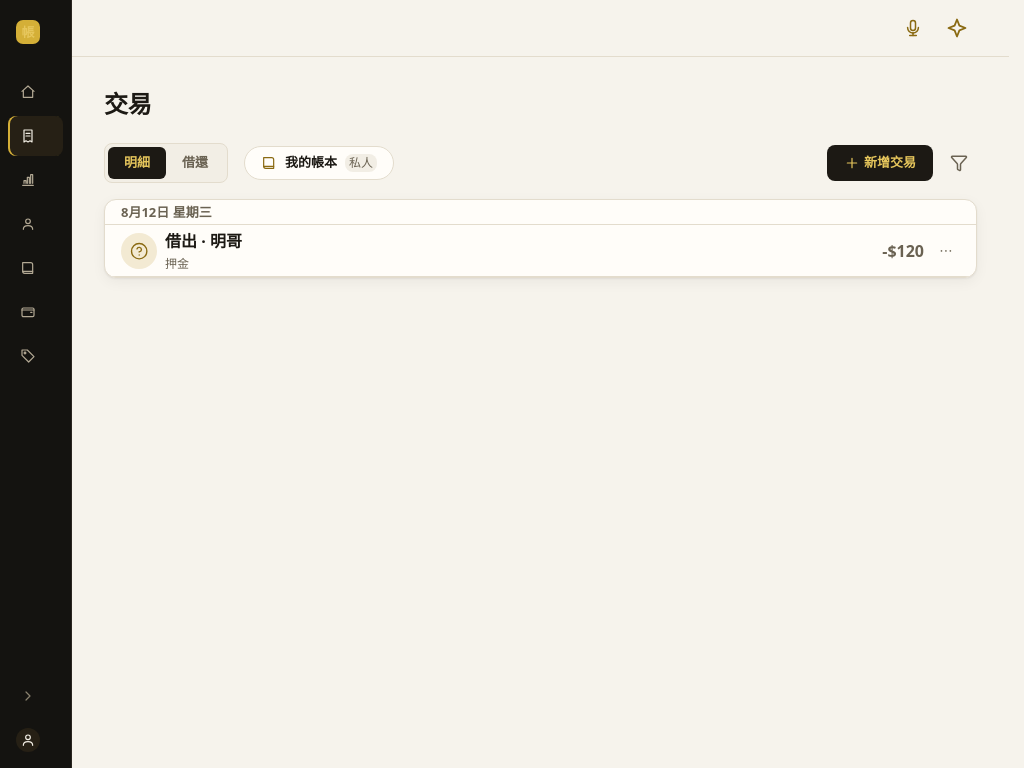
Scenario: Editing and deleting a transaction › does not offer debt editing when that transaction ledger is archived
Click the button with aria-label "編輯" at {"x": 203, "y": 241}, box [165,225,804,276]
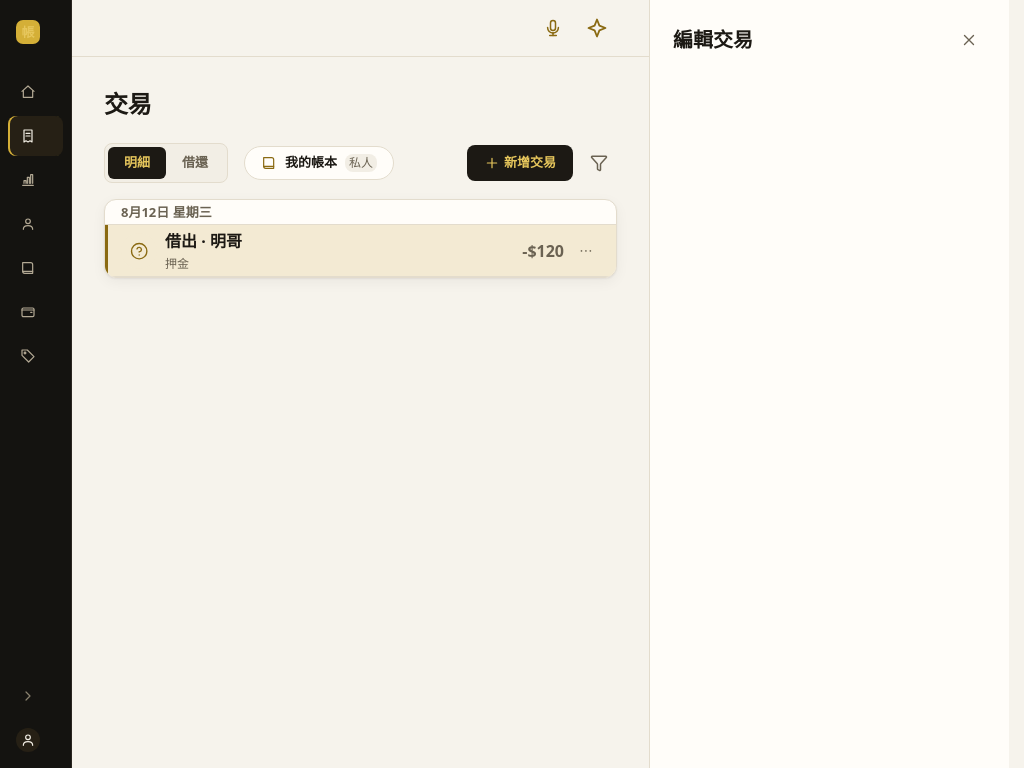
Check: the field labelled "金額" is gone
